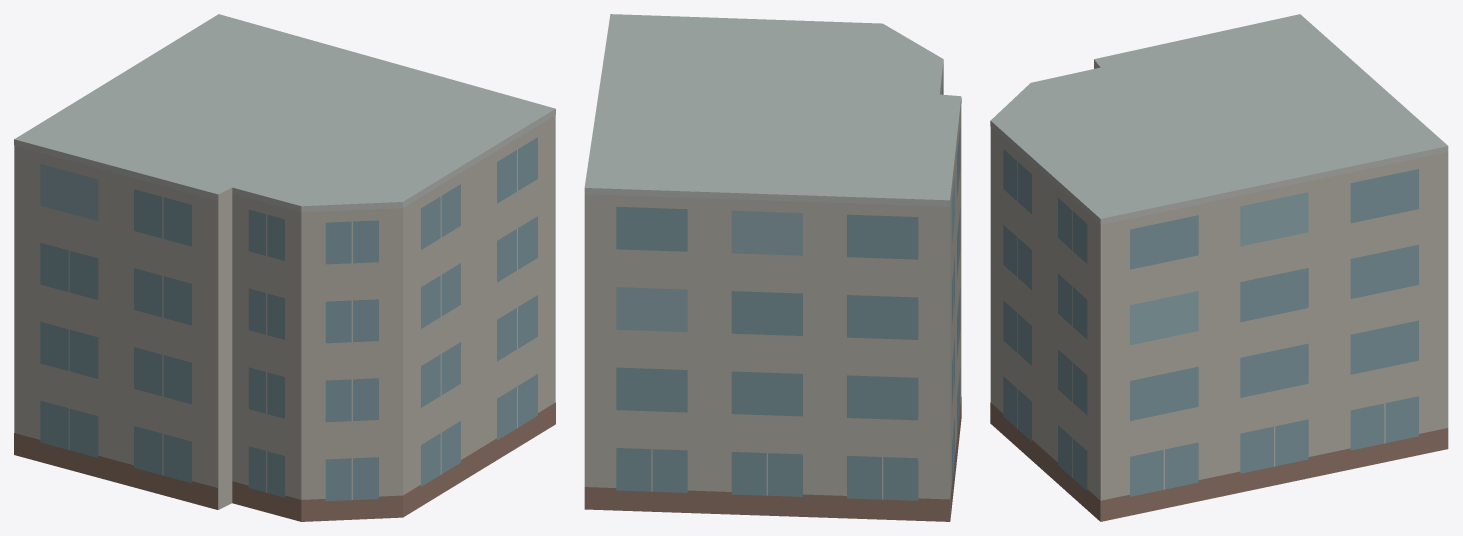
Rendered from survey-upis-32828247.glb.
The picture shows the model from 3 angles, left to right: view 1: azimuth 30°, elevation 25°; view 2: azimuth 150°, elevation 25°; view 3: azimuth 270°, elevation 25°; orthographic projection. The views are drawn at different scales.
Parts seen in each view (by area): view 1: survey-upis-32828247.tmp; view 2: survey-upis-32828247.tmp; view 3: survey-upis-32828247.tmp.
Part boxes in pixels (box(x1,y1,x2,y2)): survey-upis-32828247.tmp: box(14, 14, 555, 521); survey-upis-32828247.tmp: box(584, 14, 961, 521); survey-upis-32828247.tmp: box(990, 14, 1448, 521).
Size of the model in its own units: 18 by 12.4 by 16.99.
